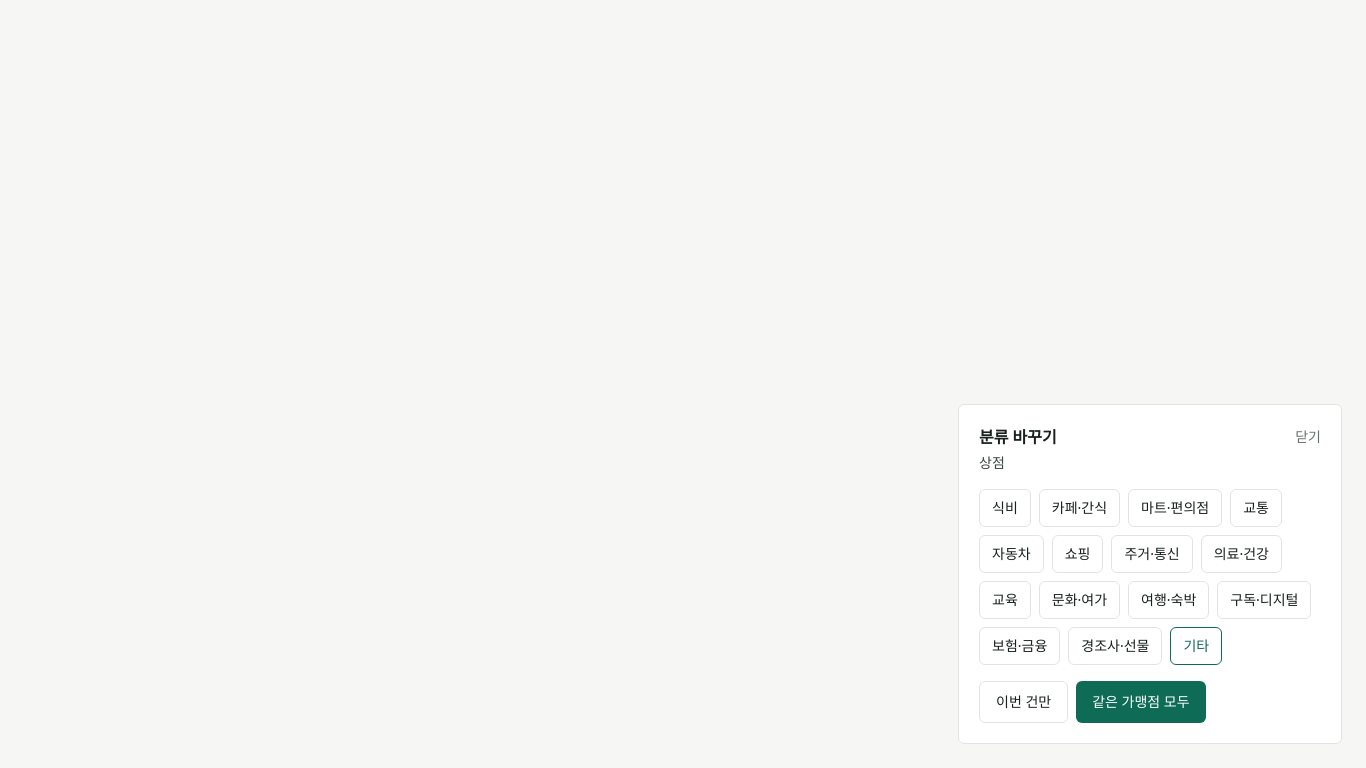
Scenario: CategorySheet › 저장 실패는 기록하지 않는다
Click the button "이번 건만": (1024, 702) [979,681,1068,723]
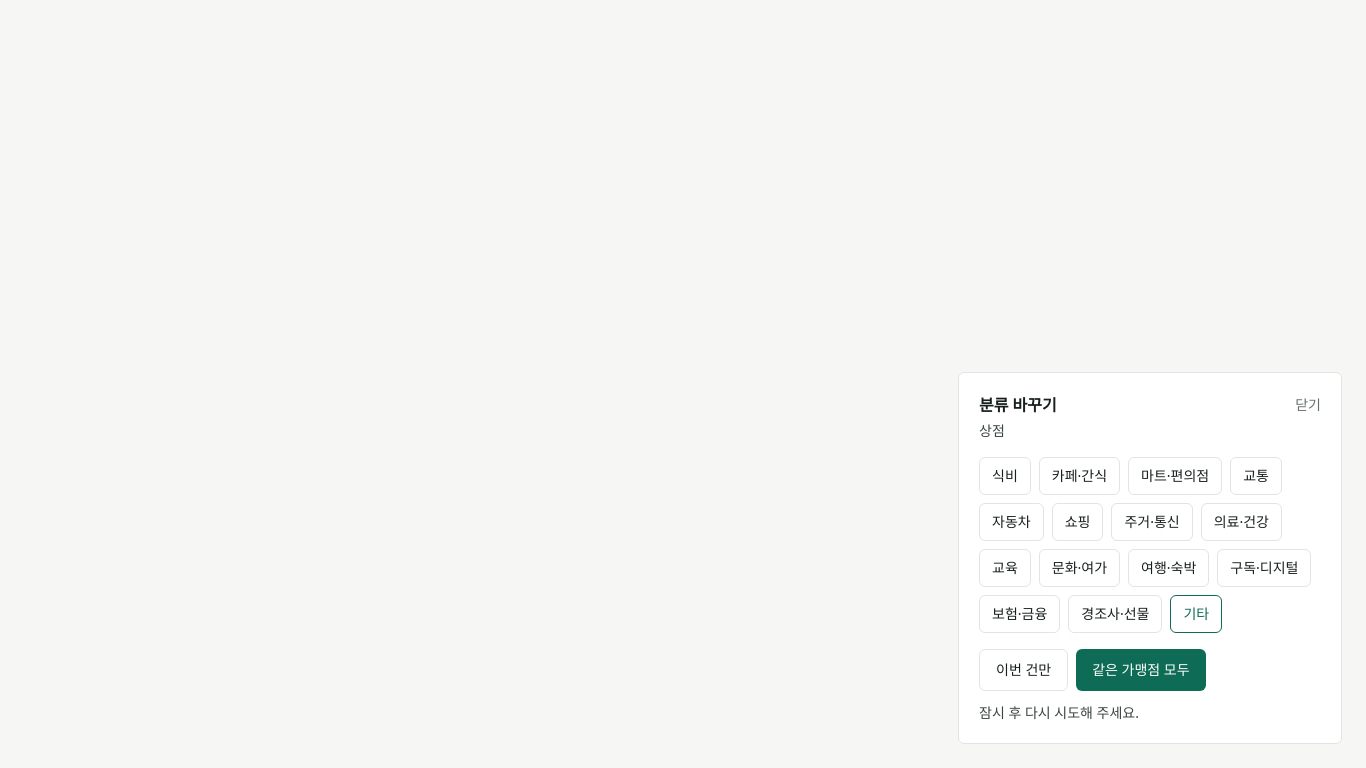
Expected: the message reads "잠시 후 다시 시도해 주세요.", [979,703,1139,722]
